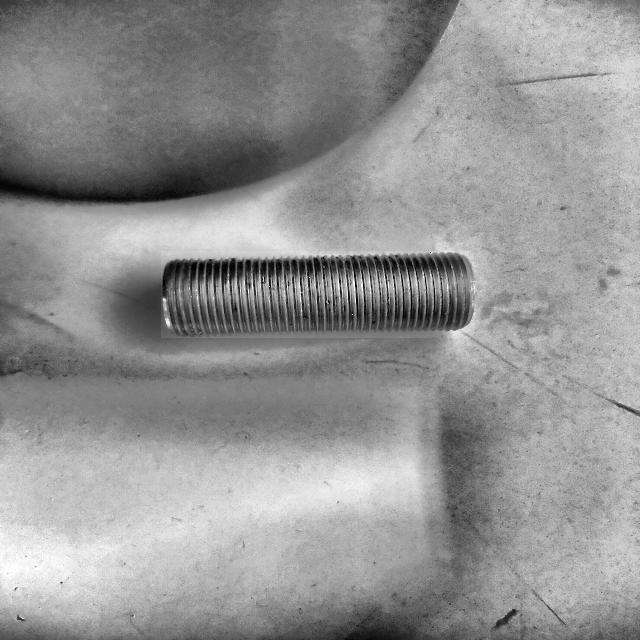Normal: (161, 251, 474, 338)
